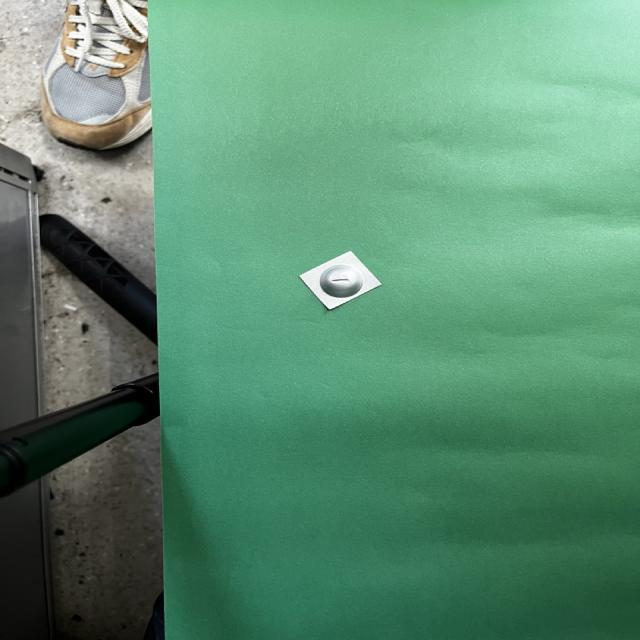Other Objects: (299, 252, 381, 310)
